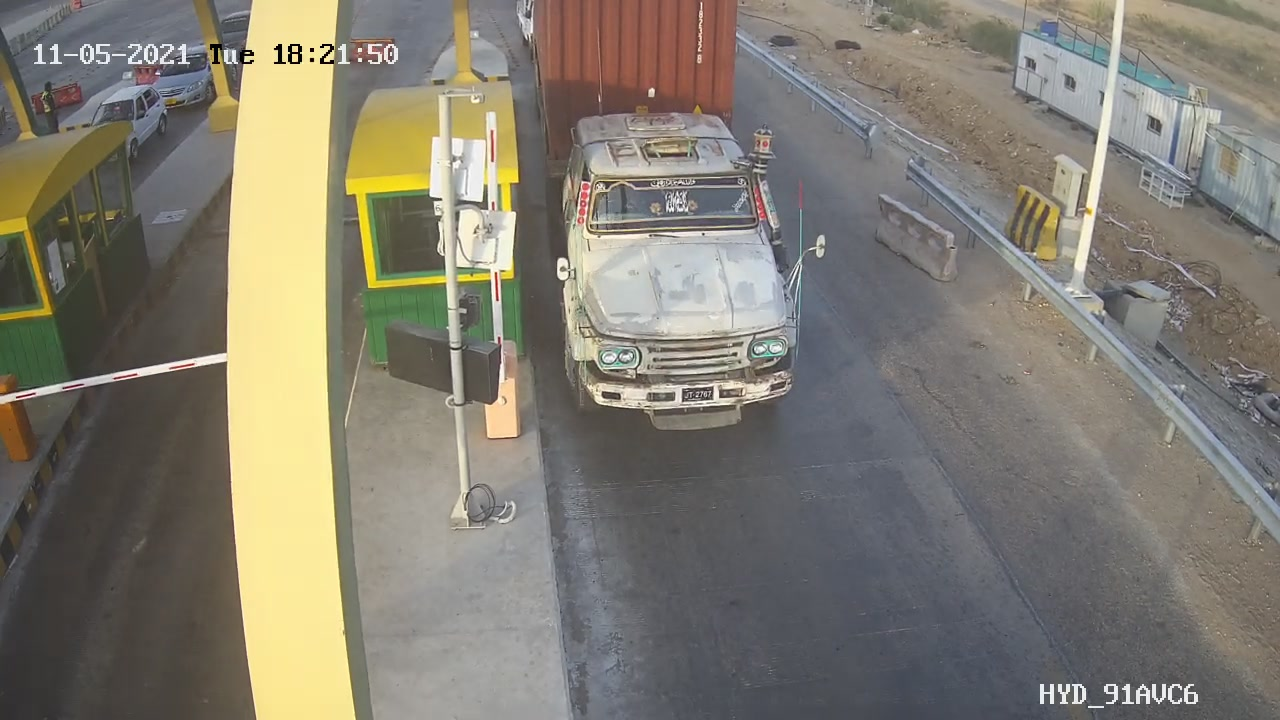F6: (515, 8, 843, 448)
